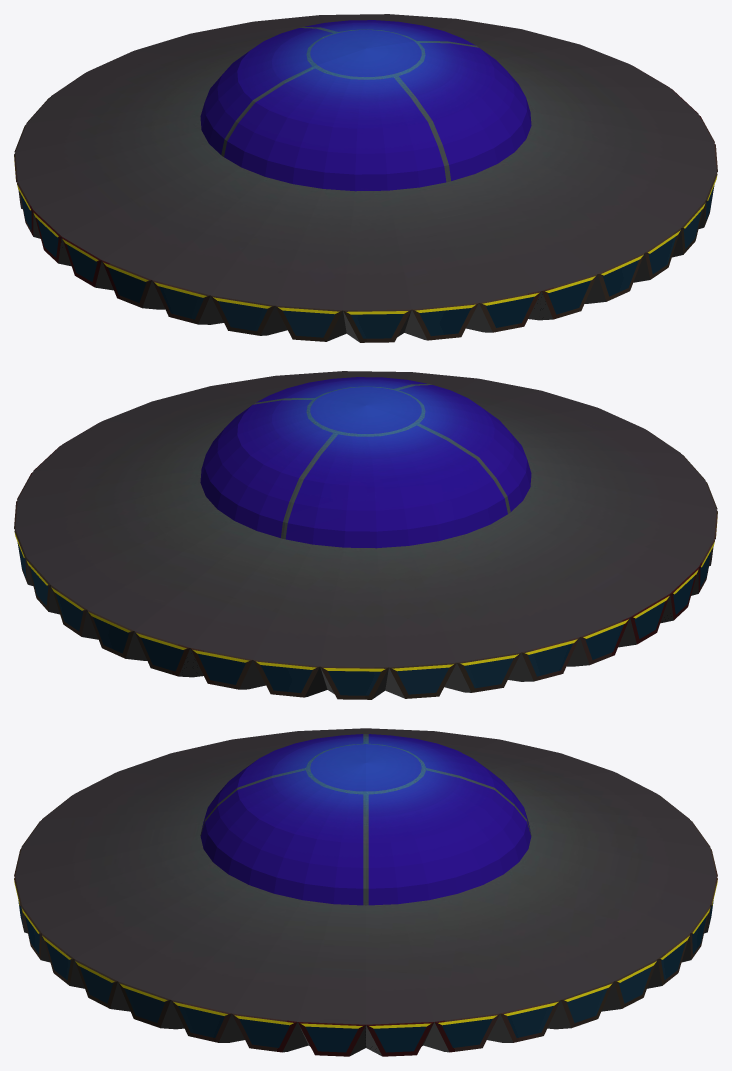
Rendered from soucoupe.gltf.
3 views of the same model, one above another, from view 1: azimuth 30°, elevation 25°; view 2: azimuth 150°, elevation 25°; view 3: azimuth 270°, elevation 25° (orthographic).
Visible parts, largest first — view 1: Circle; view 2: Circle; view 3: Circle.
Boxes of the visible parts, box(x1,y1,x2,y2) form: Circle: box(14, 14, 717, 342); Circle: box(14, 371, 717, 699); Circle: box(14, 728, 717, 1056).
Size of the model in its own units: 9.35 by 3.22 by 9.35.
6 materials, 6 textured.
